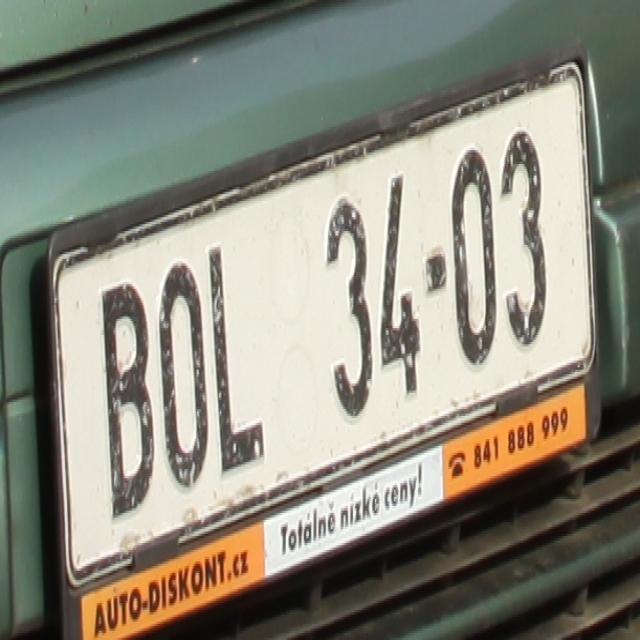0: (158, 264, 209, 492), (448, 140, 496, 360)
3: (326, 192, 373, 420), (501, 127, 546, 342)
4: (377, 173, 423, 395)
B: (97, 284, 155, 520)
L: (208, 241, 270, 478)
